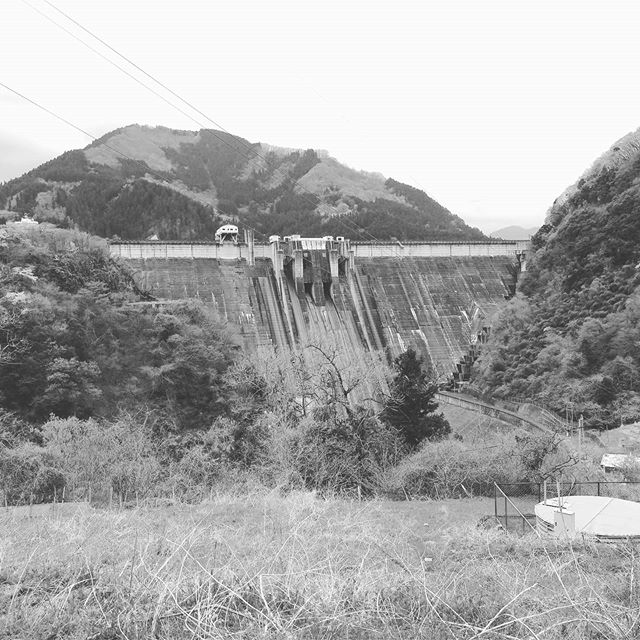grass: (1, 497, 565, 640)
mountain: (47, 102, 432, 195)
sky: (10, 1, 610, 172)
tree: (263, 311, 375, 415), (373, 345, 459, 445)
